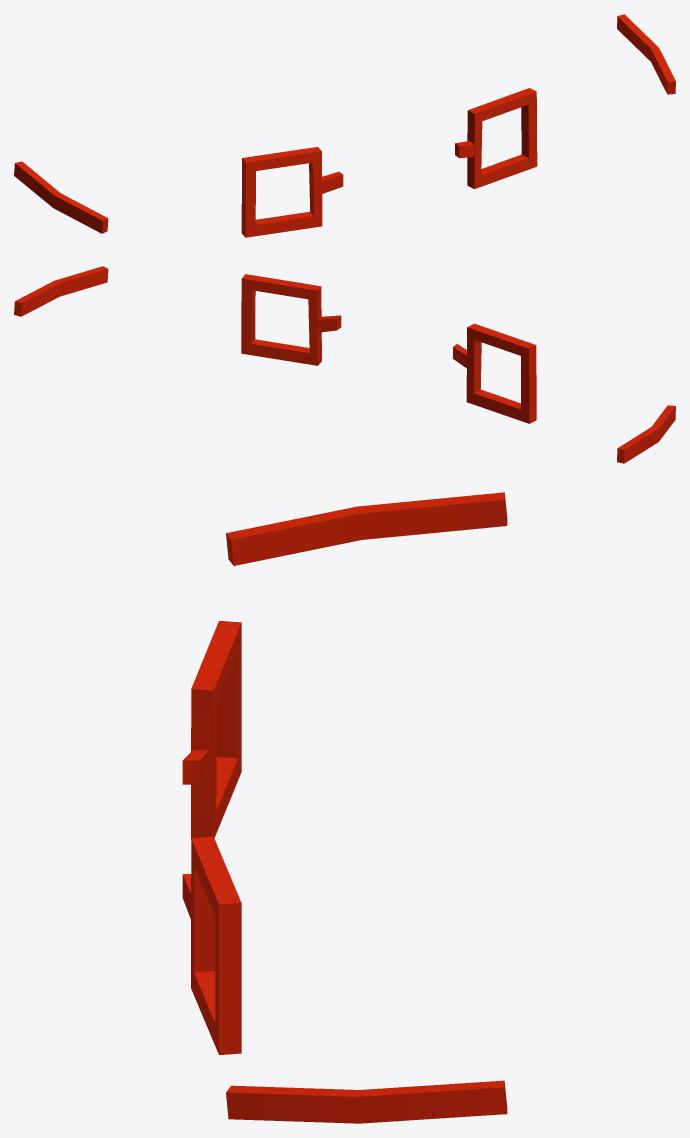
Rendered from gafas_islafantasma_v1.FBX.
3 renders of one model, top to bottom at view 1: azimuth 30°, elevation 25°; view 2: azimuth 150°, elevation 25°; view 3: azimuth 270°, elevation 25°, orthographic. The views are drawn at different scales.
Parts seen in each view (by area): view 1: montura_2, montura_1, patilla_1, patilla_2; view 2: montura_1, montura_2, patilla_2, patilla_1; view 3: patilla_1, patilla_2, montura_1, montura_2.
Boxes of the visible parts, bbox=[...] form: montura_2: bbox=[241, 147, 343, 237]; montura_1: bbox=[455, 88, 537, 189]; patilla_1: bbox=[14, 161, 108, 233]; patilla_2: bbox=[617, 14, 675, 94]; montura_1: bbox=[241, 274, 341, 365]; montura_2: bbox=[453, 323, 536, 423]; patilla_2: bbox=[14, 266, 108, 316]; patilla_1: bbox=[617, 405, 675, 463]; patilla_1: bbox=[226, 492, 507, 565]; patilla_2: bbox=[226, 1080, 507, 1123]; montura_1: bbox=[182, 836, 241, 1054]; montura_2: bbox=[182, 620, 241, 839].
Size of the model in its own units: 26.01 by 3.08 by 5.99.
